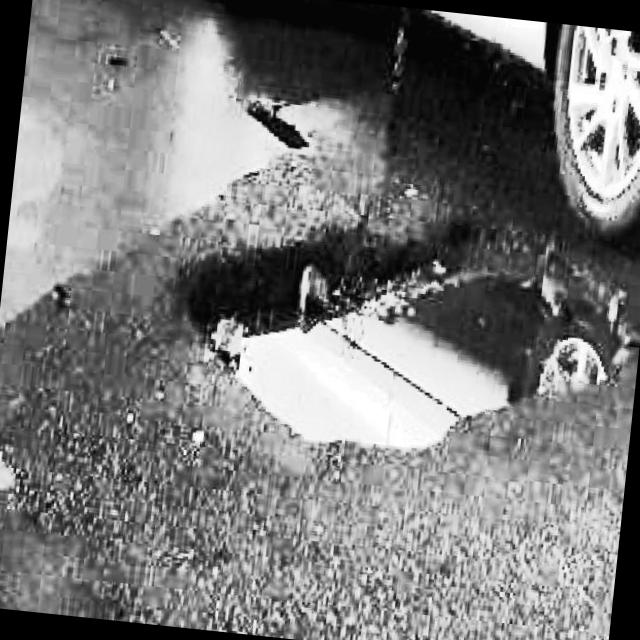Pothole: (155, 173, 640, 486)
